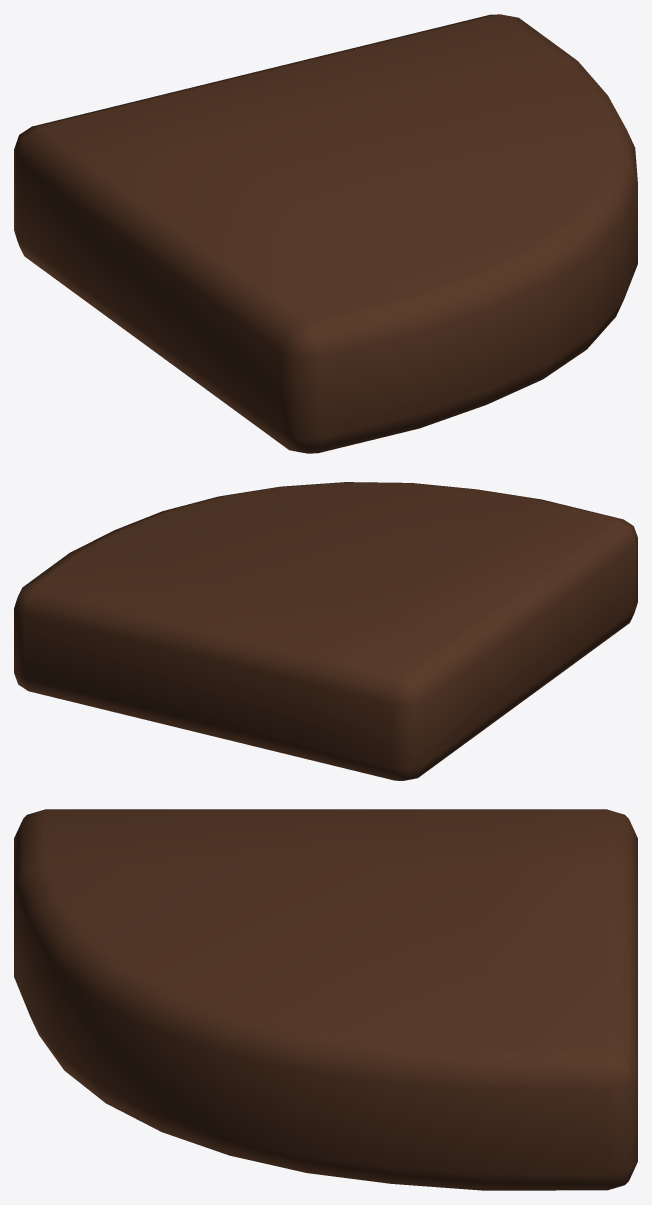
File: Stage.fbx
The picture shows the model from 3 angles, top to bottom: view 1: azimuth 30°, elevation 25°; view 2: azimuth 150°, elevation 25°; view 3: azimuth 270°, elevation 25°; orthographic projection. The views are drawn at different scales.
Visible parts, largest first — view 1: Plane.001; view 2: Plane.001; view 3: Plane.001.
Part boxes in pixels (left/top/right/bottom): Plane.001: left=14, top=14, right=637, bottom=453; Plane.001: left=14, top=482, right=637, bottom=780; Plane.001: left=14, top=809, right=637, bottom=1190.
Bounding box in the file's own units: 200 × 50 × 200.
